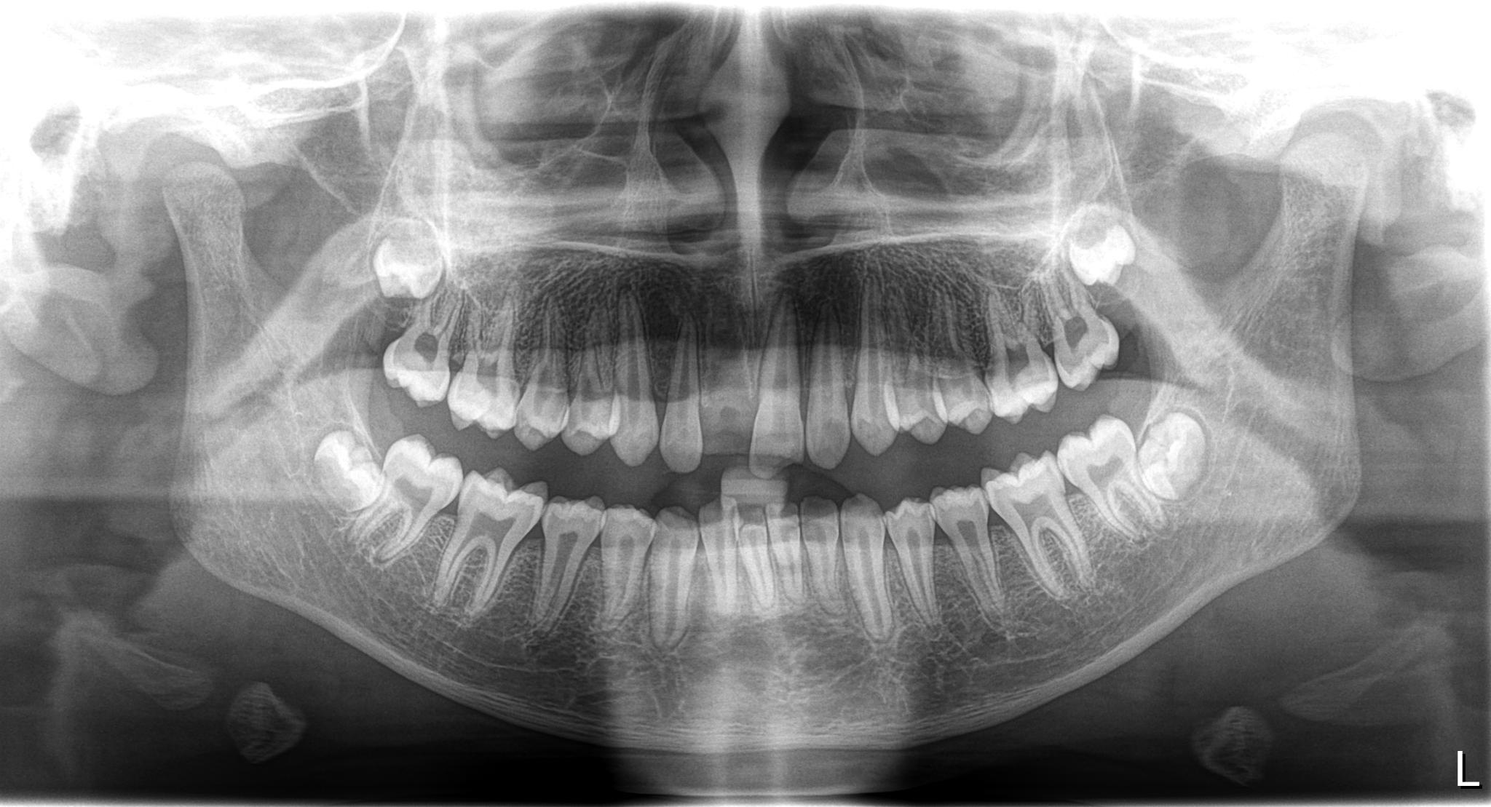Dental Caries: (752, 418, 790, 454)
Impacted Third Molar: (302, 426, 391, 520), (1127, 411, 1227, 489), (366, 233, 454, 304), (1067, 227, 1167, 284)
